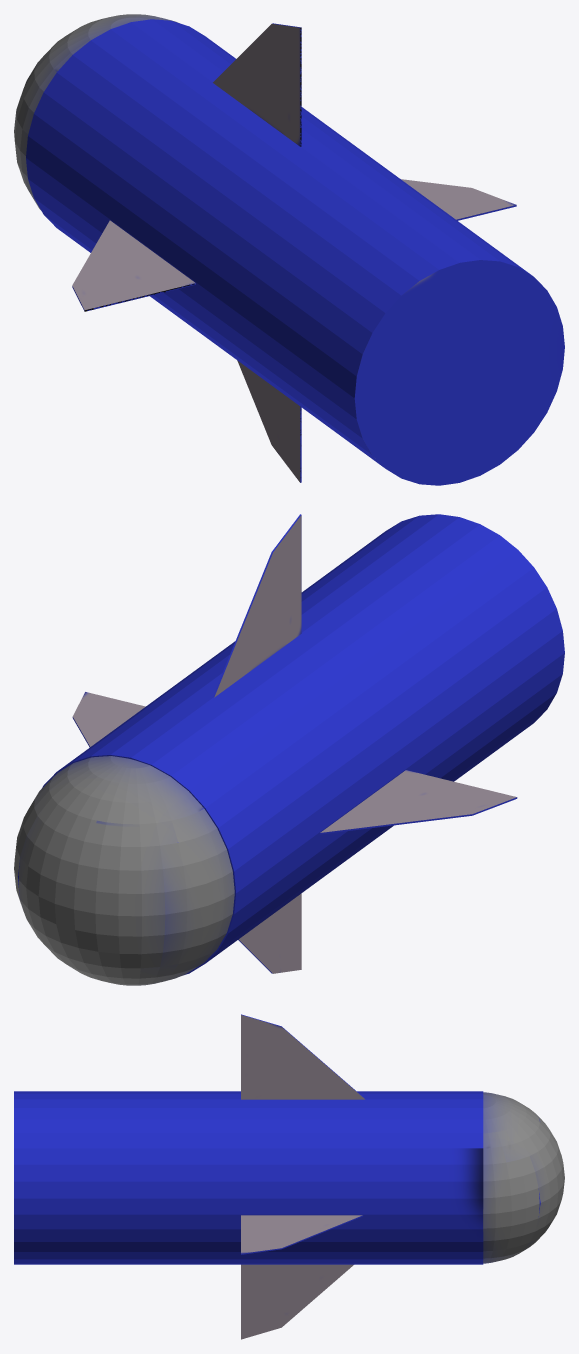
The model's file is bullet.obj.
3 views of the same model, one above another, from view 1: azimuth 30°, elevation 25°; view 2: azimuth 150°, elevation 25°; view 3: azimuth 270°, elevation 25° (orthographic). The views are drawn at different scales.
Parts seen in each view (by area): view 1: bullet; view 2: bullet; view 3: bullet.
Boxes of the visible parts, <box> form: bullet: <box>14,14,564,485</box>; bullet: <box>14,514,564,985</box>; bullet: <box>14,1014,564,1339</box>.
Bounding box in the file's own units: 0.6192 × 0.6234 × 0.9581.
1 material, 1 textured.
